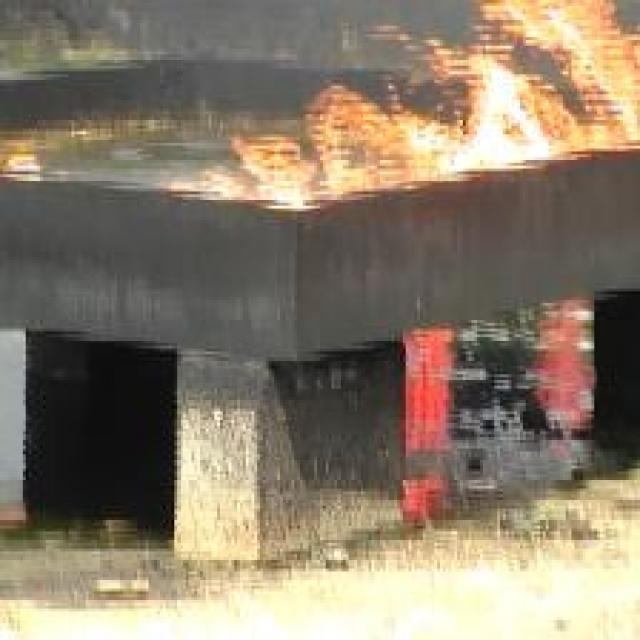Fire: (168, 0, 640, 200)
